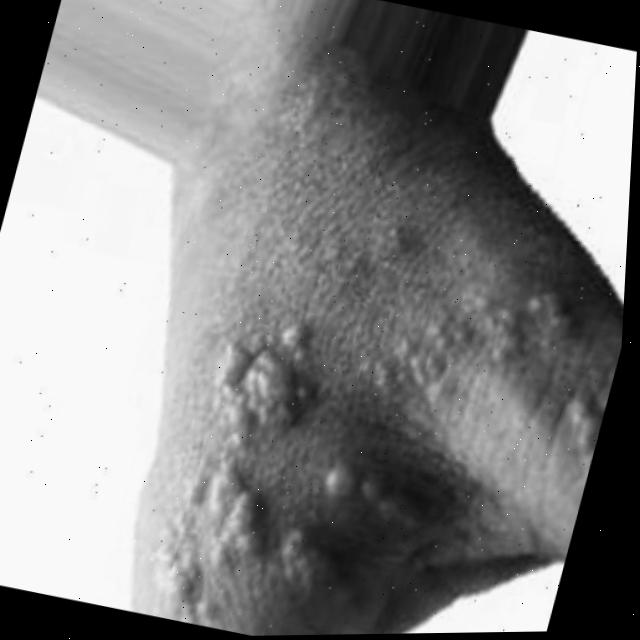Shingles: (124, 189, 630, 638)
